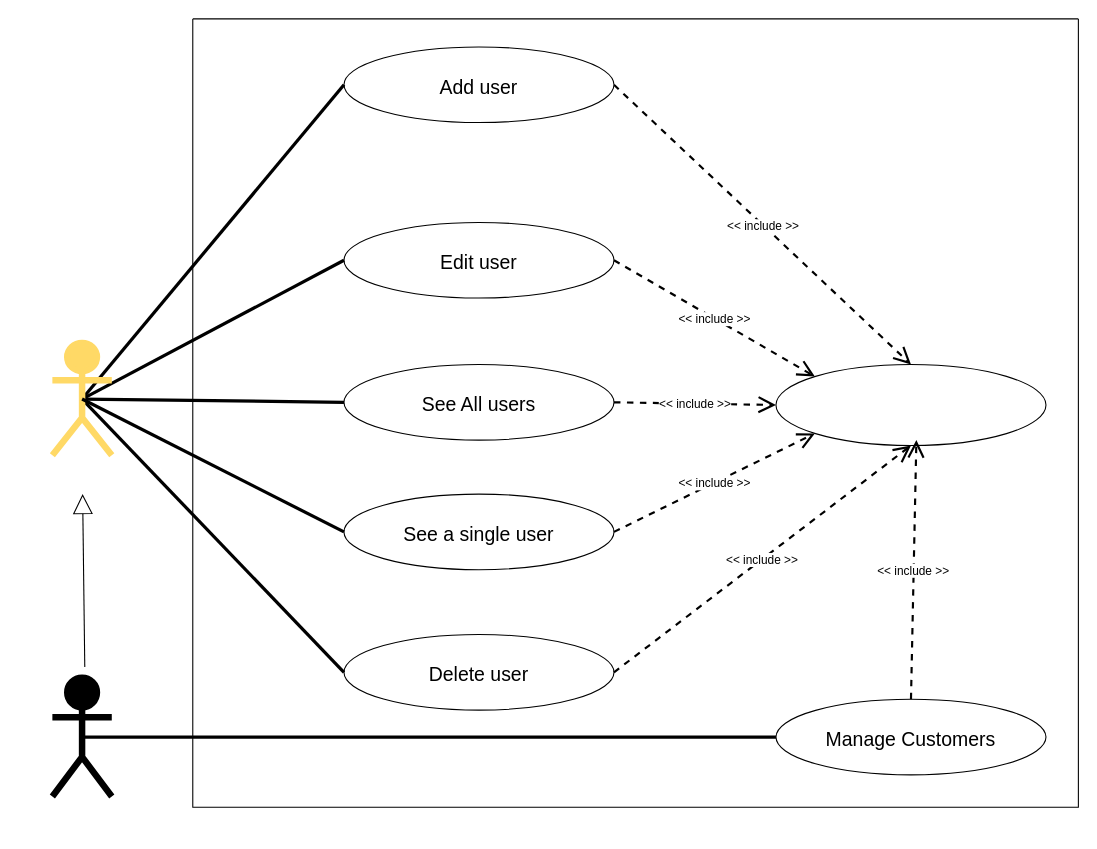
Some shapes in this 1097 by 849 pixel diagram are drawn without their labels. Here are the shapes that lost their labels. From the top down, the centre of each, then its label:
At (81,398): "Customer".
At (910,404): "To log in".
At (81,736): "Administrator".
